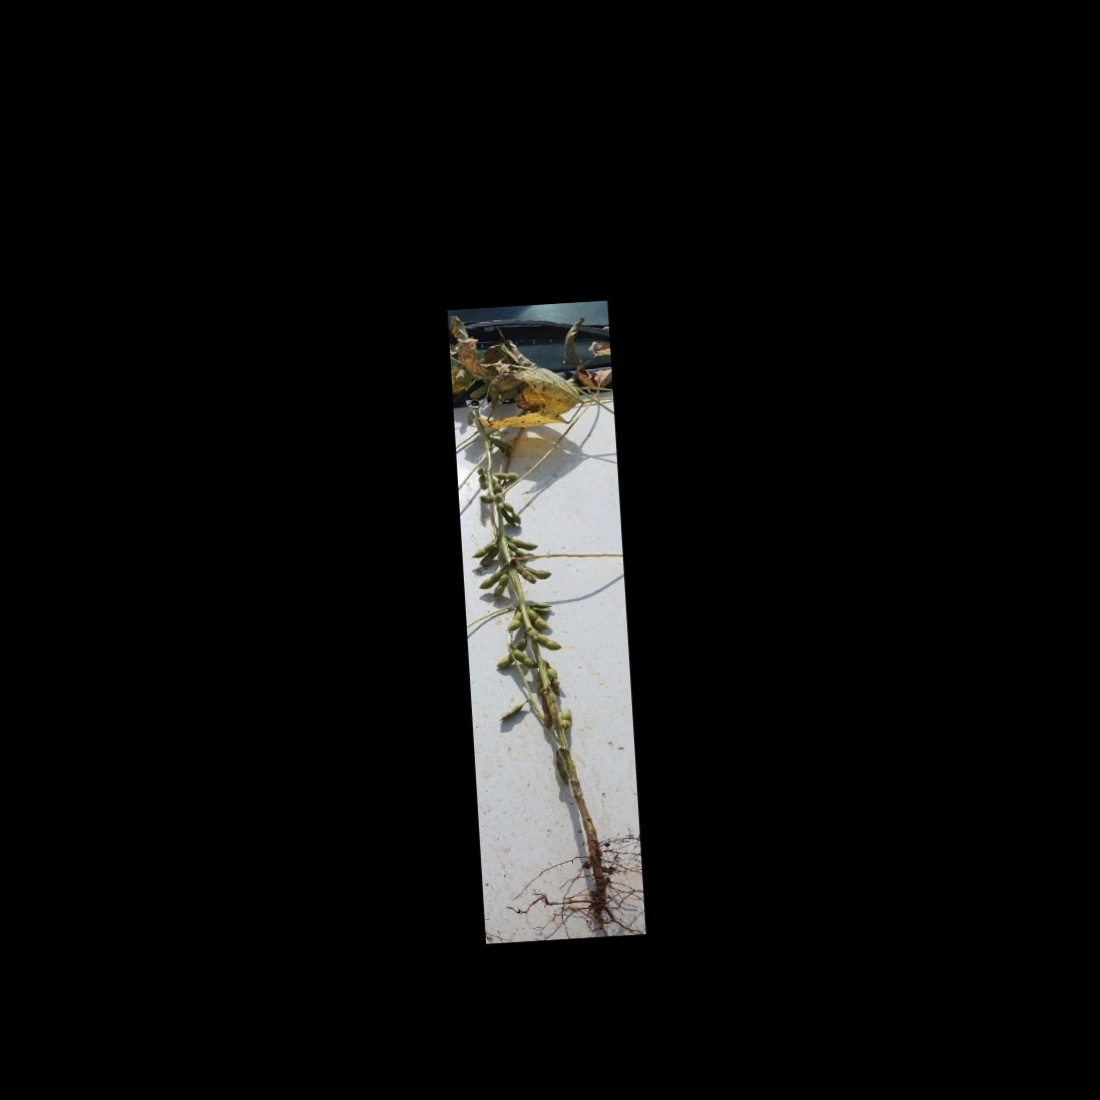pod: (529, 631, 564, 653), (510, 646, 539, 671), (495, 702, 526, 724), (490, 571, 513, 599), (504, 499, 524, 528), (514, 563, 539, 586), (478, 545, 502, 567), (467, 539, 493, 558), (540, 695, 552, 729), (505, 611, 524, 633), (491, 468, 519, 482), (509, 542, 528, 561), (543, 660, 560, 680), (559, 708, 571, 731), (477, 465, 489, 491), (465, 410, 475, 429)
soy: (456, 324, 632, 926)
